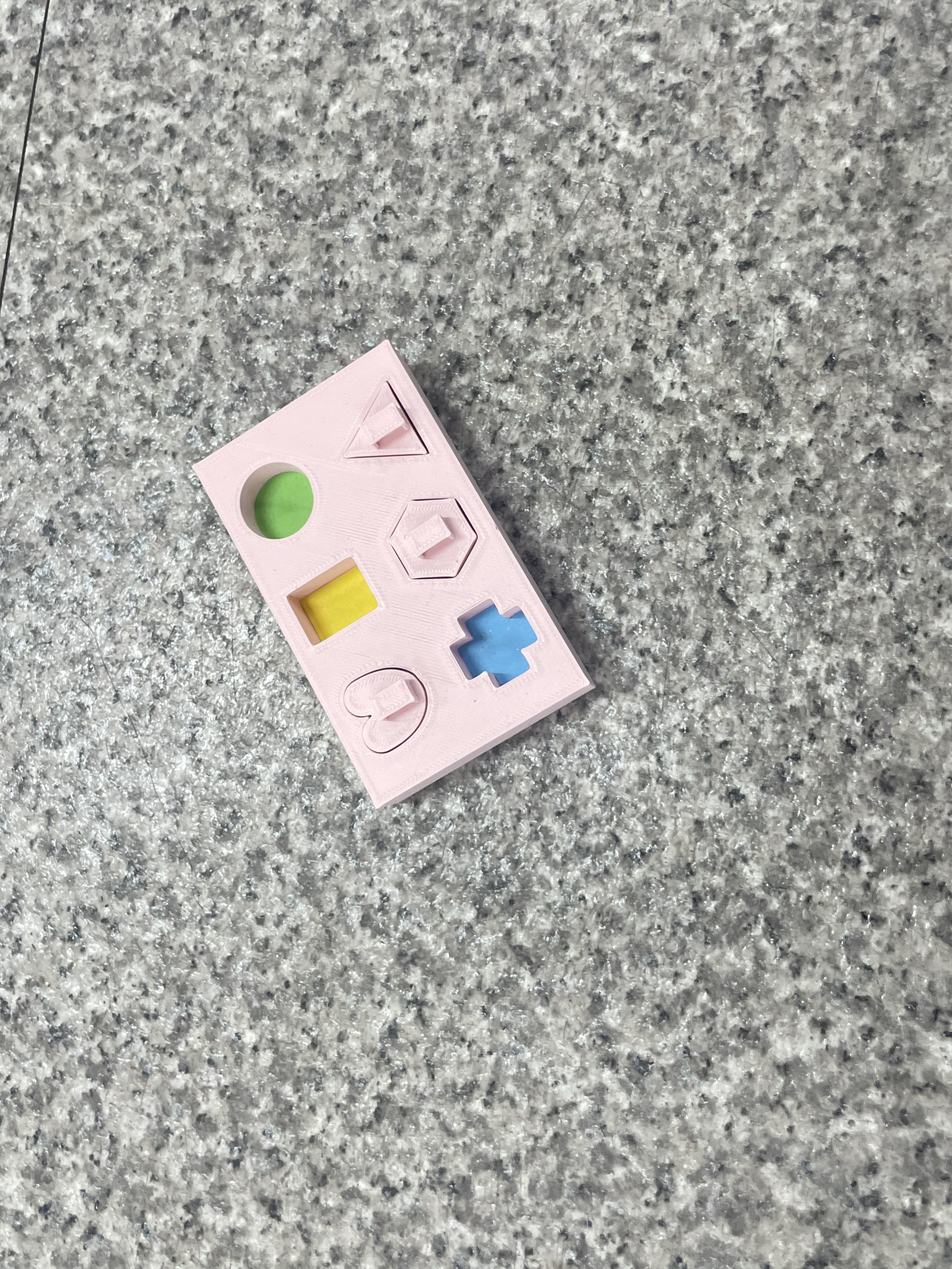unsolved: (186, 322, 621, 825)
